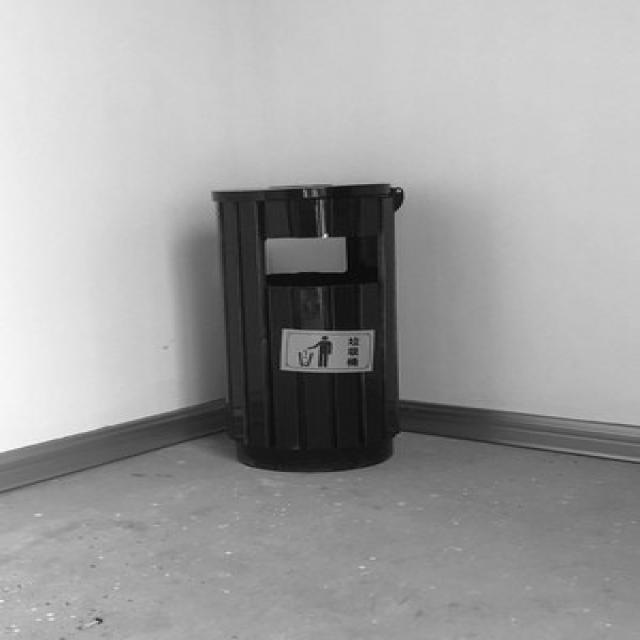ash bin: (201, 176, 403, 469)
